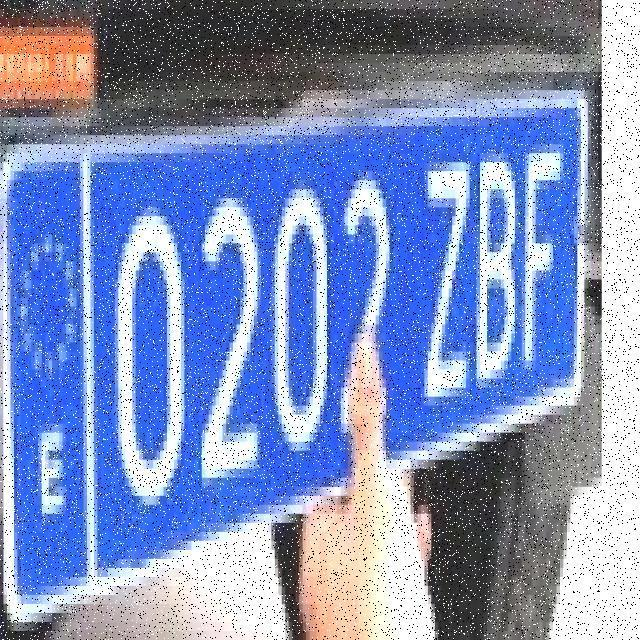LicensePlate: (2, 95, 590, 630)
